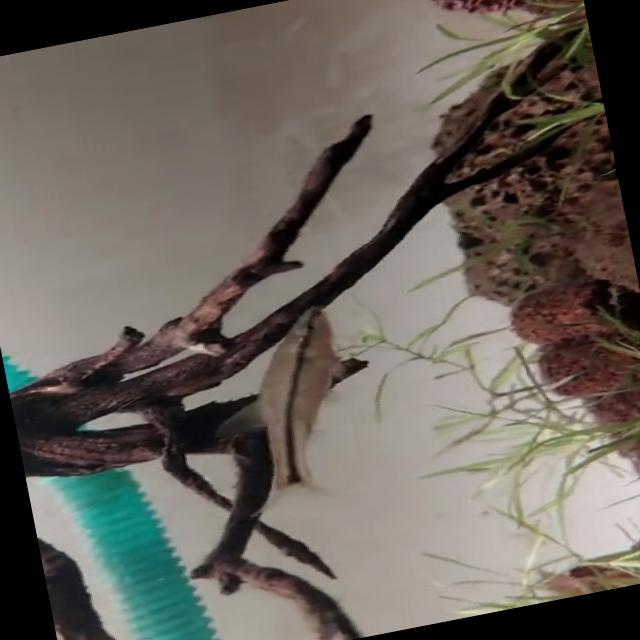Cakil Baligi: (191, 296, 374, 534)
